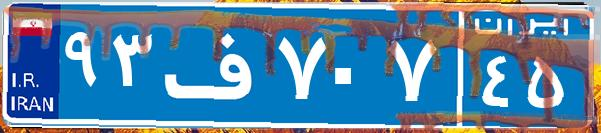0: (330, 28, 385, 110)
3: (110, 28, 158, 105)
4: (475, 38, 525, 113)
5: (525, 38, 570, 115)
7: (385, 28, 445, 110), (273, 28, 330, 110)
9: (57, 26, 110, 107)
ف: (158, 15, 273, 115)
